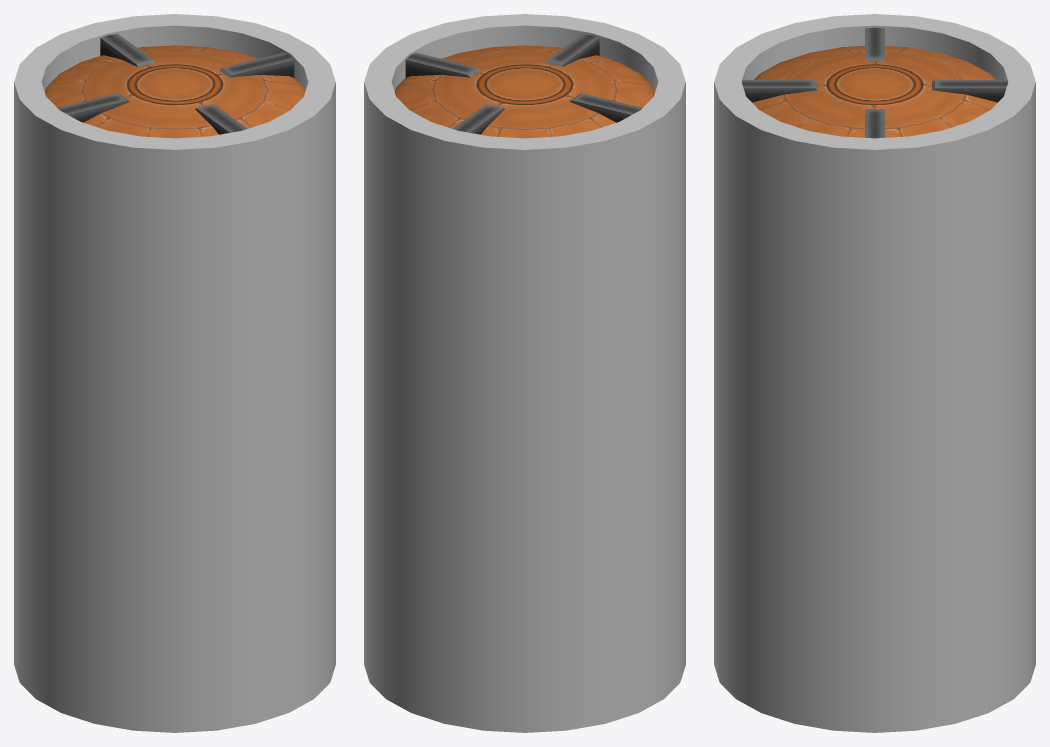
Rendered from bluedog_ableShortTank.dae.
The picture shows the model from 3 angles, left to right: view 1: azimuth 30°, elevation 25°; view 2: azimuth 150°, elevation 25°; view 3: azimuth 270°, elevation 25°; orthographic projection.
Visible parts, largest first — view 1: AbleTank1, TankTopper7; view 2: AbleTank1, TankTopper7; view 3: AbleTank1, TankTopper7.
Boxes of the visible parts, x1,y1,x2,y2 form: AbleTank1: (14, 14, 335, 732); TankTopper7: (45, 33, 304, 138); AbleTank1: (364, 14, 685, 732); TankTopper7: (395, 33, 654, 138); AbleTank1: (714, 14, 1035, 732); TankTopper7: (742, 27, 1007, 138).
Size of the model in its own units: 0.625 by 1.25 by 0.625.
